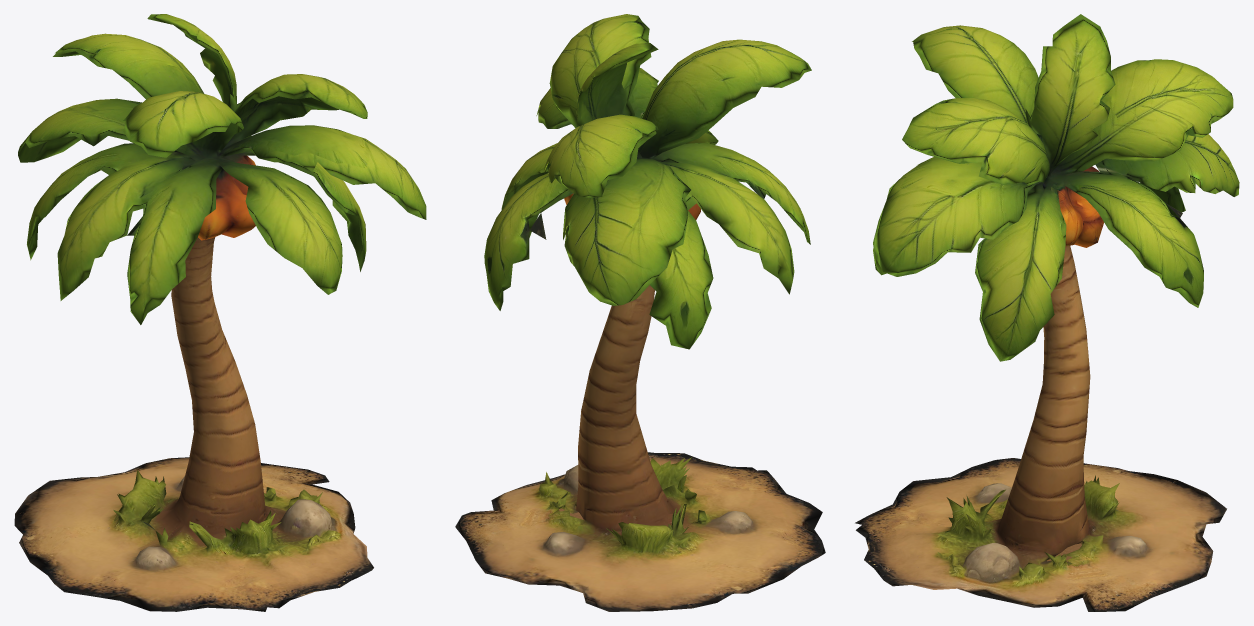
Rendered from tripo_convert_d8421138-fc20-455a-ba85-0b0e8e27870e.fbx.
3 views of the same model, side by side, from view 1: azimuth 30°, elevation 25°; view 2: azimuth 150°, elevation 25°; view 3: azimuth 270°, elevation 25° (orthographic).
Parts seen in each view (by area): view 1: tripo_node_d8421138; view 2: tripo_node_d8421138; view 3: tripo_node_d8421138.
Part boxes in pixels (<box>): tripo_node_d8421138: <box>14,14,426,611</box>; tripo_node_d8421138: <box>455,14,825,611</box>; tripo_node_d8421138: <box>855,14,1239,611</box>.
Size of the model in its own units: 0.6423 by 0.9939 by 0.6808.
